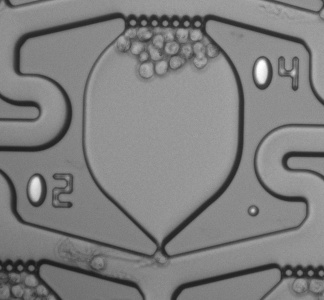AptNum: (244, 51, 306, 96)
Marker: (238, 197, 268, 224)
StNum: (20, 167, 82, 217)
Trap: (139, 247, 183, 289)
